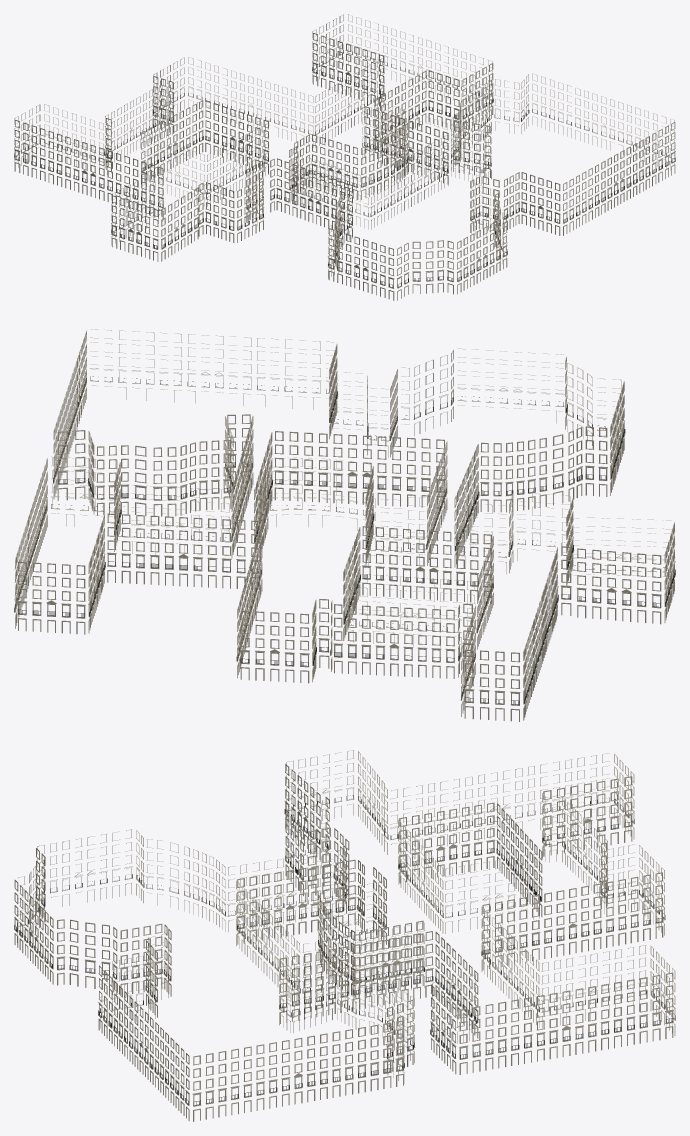
3 views of the same model, one above another, from view 1: azimuth 30°, elevation 25°; view 2: azimuth 150°, elevation 25°; view 3: azimuth 270°, elevation 25° (orthographic). The views are drawn at different scales.
Parts seen in each view (by area): view 1: detail; view 2: detail; view 3: detail.
Boxes of the visible parts, left/top/right/bottom form: detail: left=14, top=14, right=675, bottom=300; detail: left=14, top=329, right=675, bottom=721; detail: left=14, top=750, right=675, bottom=1121.
Size of the model in its own units: 151 by 14.93 by 137.
